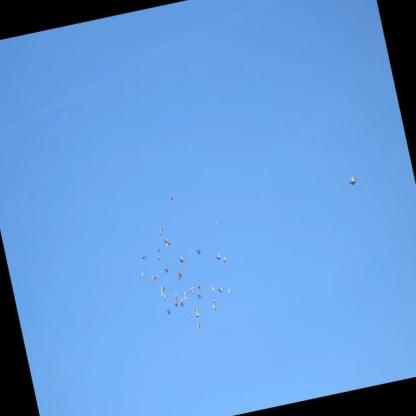bird: (346, 169, 359, 189), (162, 235, 171, 249), (194, 244, 203, 257), (177, 252, 185, 265), (149, 274, 158, 284), (157, 226, 165, 237), (194, 279, 202, 290), (172, 289, 180, 300), (181, 291, 189, 302), (159, 286, 167, 296), (163, 264, 170, 275), (215, 252, 222, 262), (179, 297, 185, 308), (168, 192, 175, 201), (176, 270, 183, 279), (217, 285, 224, 294), (196, 291, 203, 300), (165, 306, 172, 315), (195, 321, 202, 330), (173, 299, 179, 309), (189, 286, 195, 295), (192, 306, 199, 313), (141, 253, 149, 259), (222, 255, 228, 263), (212, 303, 218, 311), (211, 284, 216, 293), (178, 244, 184, 251), (140, 271, 146, 278), (186, 313, 191, 321), (194, 313, 200, 319), (156, 255, 161, 262), (177, 274, 182, 281), (162, 293, 167, 300), (227, 288, 232, 295), (214, 220, 219, 226), (156, 247, 162, 252)
